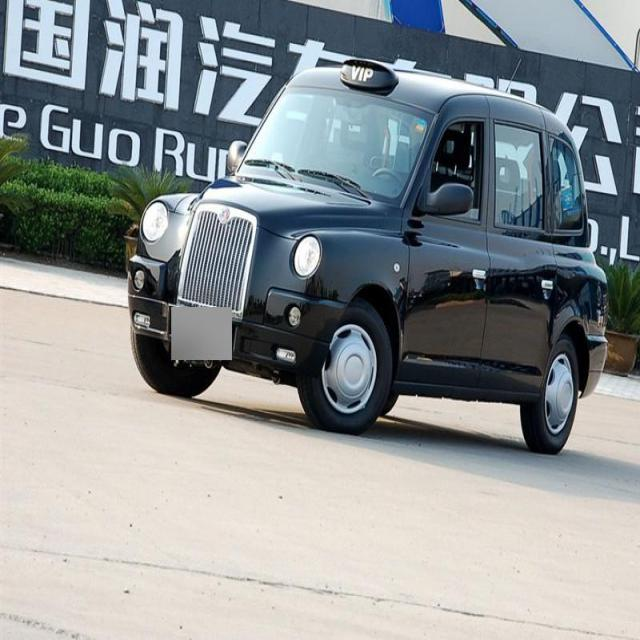door: (486, 102, 556, 394)
front_bumper: (127, 253, 347, 387)
front_glass: (235, 84, 438, 208)
front_left_side_door: (401, 90, 492, 375)
front_left_side_light: (290, 232, 322, 280)
front_left_side_mirror: (426, 180, 473, 218)
front_right_side_light: (140, 197, 170, 244)
front_right_side_mirror: (226, 139, 248, 175)
wheel: (295, 302, 392, 432), (130, 322, 220, 396), (520, 336, 578, 448)
